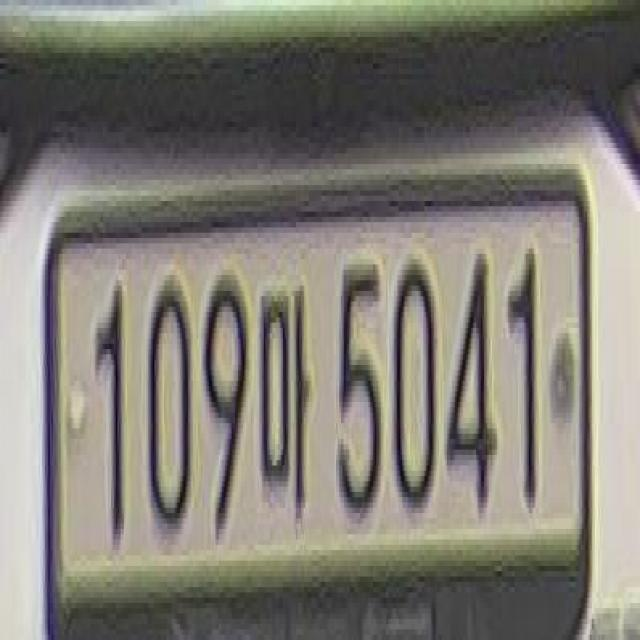illegal_plate: (44, 185, 596, 616)
